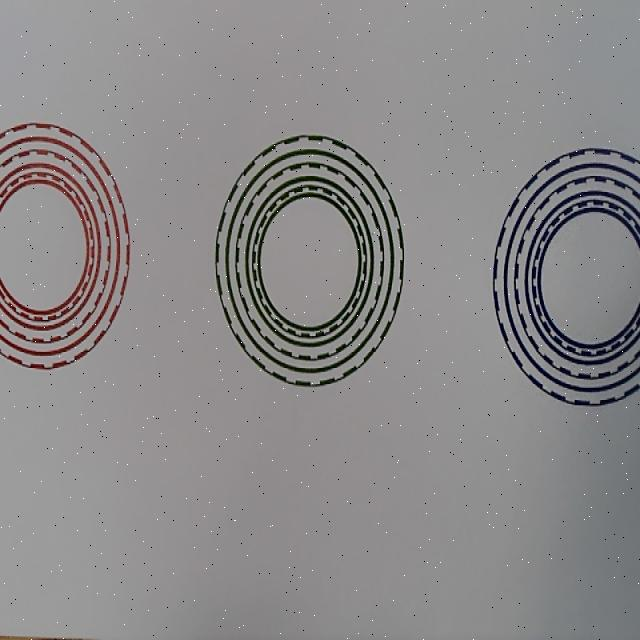g: (215, 134, 405, 387)
